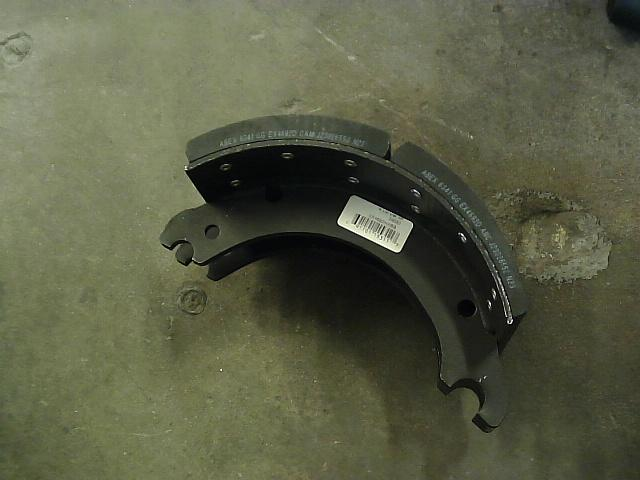brake-shoes: (159, 112, 531, 435)
